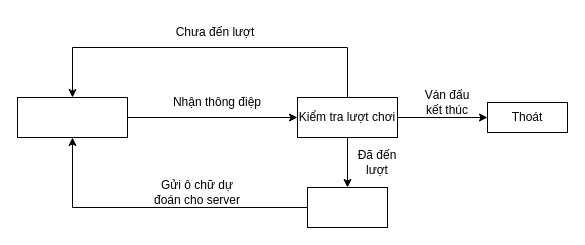
Image size: 585x245. Some labels were removed from this diagram. Each missing label, with the centre of its shape:
"Đoán ô chữ" goes at (x=347, y=207).
"Đợi" goes at (x=72, y=117).
